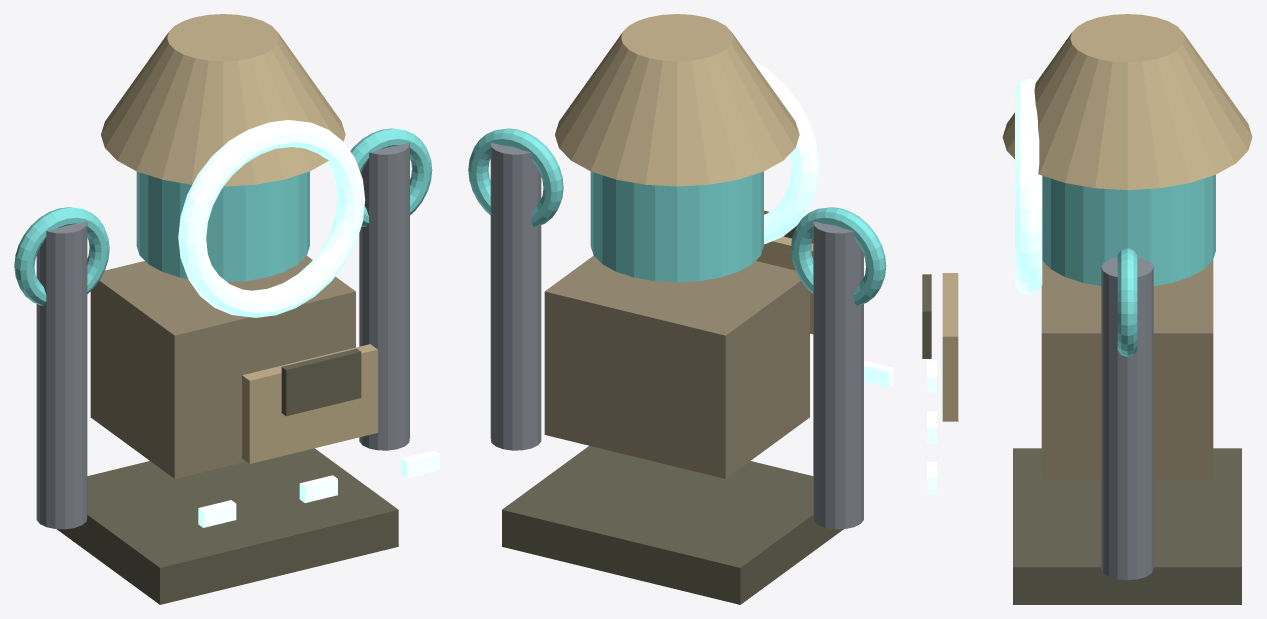
The model's file is asset.glb.
The picture shows the model from 3 angles, left to right: view 1: azimuth 30°, elevation 25°; view 2: azimuth 150°, elevation 25°; view 3: azimuth 270°, elevation 25°; orthographic projection. The views are drawn at different scales.
Parts seen in each view (by area): view 1: Housing, Foot, TopCap, SidePost_-1, CoreHalo, Core, SidePost_1, FrontInset, ControlFace, SideRing_-1, SideRing_1, FunctionalTrim_1 (+2 smaller); view 2: Housing, Foot, TopCap, Core, SidePost_1, SidePost_-1, CoreHalo, SideRing_-1, SideRing_1, FrontInset, FunctionalTrim_0; view 3: TopCap, Foot, Housing, SidePost_1, Core, CoreHalo, FrontInset, SideRing_1, ControlFace.
Boxes of the visible parts, box(x1,y1,x2,y2) form: Housing: box(90, 256, 355, 478); Foot: box(57, 448, 398, 604); TopCap: box(101, 14, 345, 186); SidePost_-1: box(36, 216, 87, 529); CoreHalo: box(178, 120, 365, 317); Core: box(136, 171, 309, 282); SidePost_1: box(359, 137, 409, 450); FrontInset: box(242, 344, 377, 463); ControlFace: box(281, 348, 361, 416); SideRing_-1: box(14, 207, 109, 305); SideRing_1: box(350, 128, 432, 226); FunctionalTrim_1: box(299, 475, 337, 502); Housing: box(544, 255, 809, 478); Foot: box(502, 446, 843, 604); TopCap: box(555, 14, 799, 186); Core: box(590, 171, 763, 282); SidePost_1: box(490, 137, 541, 450); SidePost_-1: box(813, 216, 863, 529); CoreHalo: box(752, 60, 819, 244); SideRing_-1: box(791, 207, 886, 305); SideRing_1: box(468, 128, 563, 226); FrontInset: box(756, 236, 813, 334); FunctionalTrim_0: box(864, 361, 893, 387); TopCap: box(1002, 14, 1252, 189); Foot: box(1013, 448, 1241, 604); Housing: box(1041, 260, 1213, 479); SidePost_1: box(1101, 257, 1153, 580); Core: box(1042, 174, 1215, 285); CoreHalo: box(1015, 79, 1042, 294); FrontInset: box(942, 273, 958, 421); SideRing_1: box(1117, 248, 1137, 356); ControlFace: box(922, 274, 931, 358).
Size of the model in its own units: 1.88 by 2.15 by 1.27.
